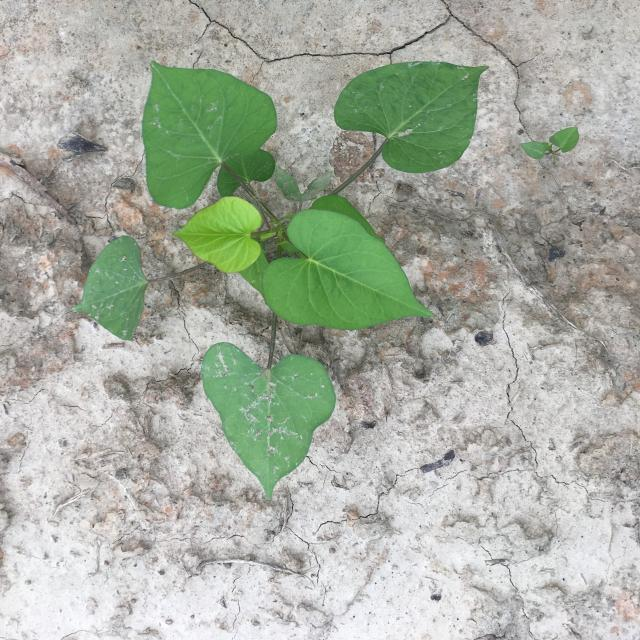MorningGlory: (71, 61, 489, 500), (520, 126, 579, 168)
